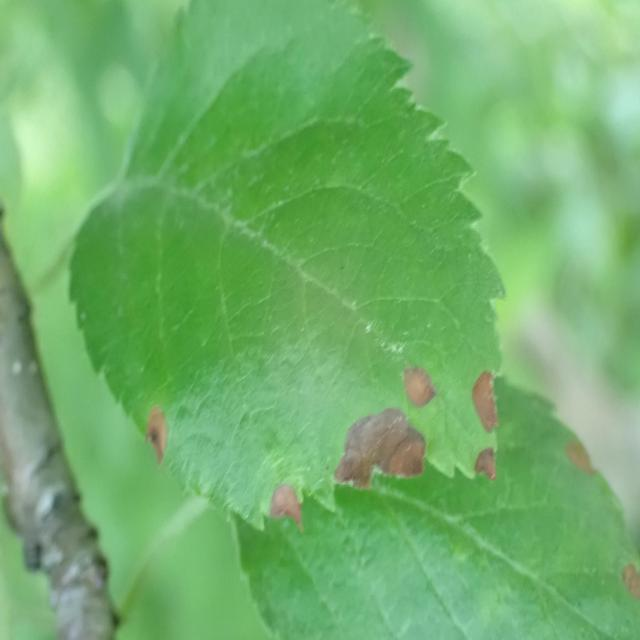Black Rot: (338, 407, 430, 521), (106, 387, 192, 476), (394, 304, 453, 414), (554, 393, 604, 496), (456, 432, 508, 528), (258, 465, 314, 546), (466, 353, 512, 441)
